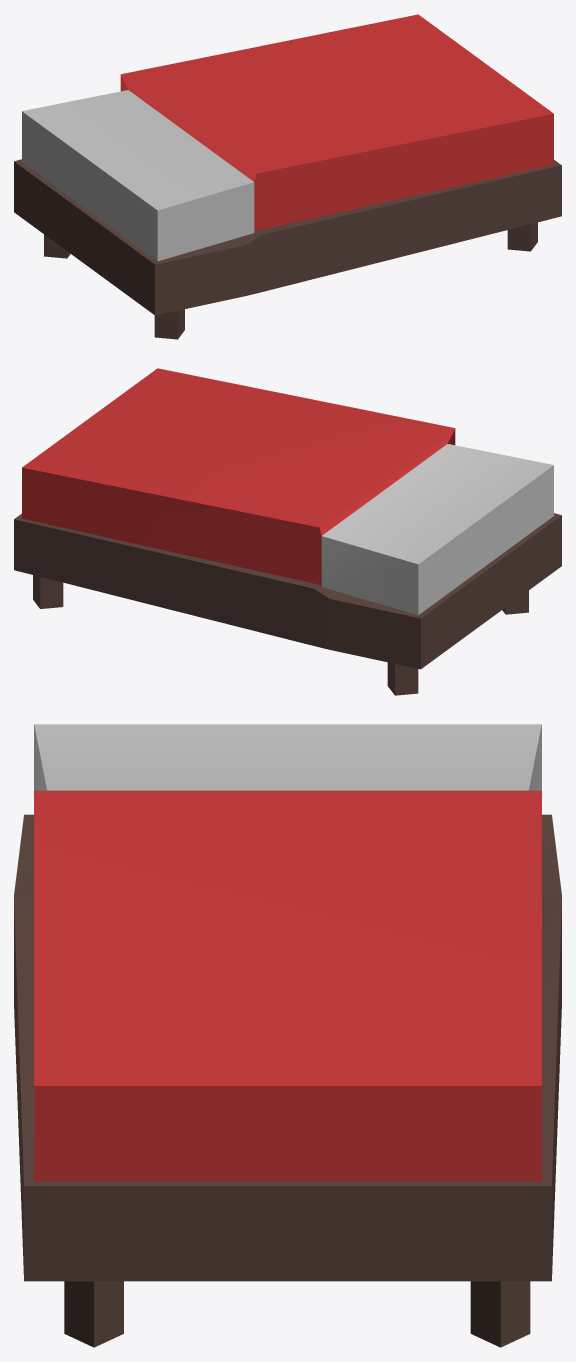
File: BedSplit.fbx
3 views of the same model, one above another, from view 1: azimuth 30°, elevation 25°; view 2: azimuth 150°, elevation 25°; view 3: azimuth 270°, elevation 25° (orthographic). The views are drawn at different scales.
Parts seen in each view (by area): view 1: Matress, Matress1, Base, Base1, Leg1, Leg; view 2: Matress, Matress1, Base, Base1, Leg3, Leg2; view 3: Matress1, Matress, Base1, Base, Leg2, Leg.
Part boxes in pixels (box(x1,y1,x2,y2)): Matress: box(22, 36, 354, 261); Matress1: box(309, 14, 553, 208); Base: box(14, 159, 462, 315); Base1: box(453, 160, 561, 241); Leg1: box(154, 309, 184, 339); Leg: box(507, 222, 537, 251); Matress: box(107, 415, 553, 615); Matress1: box(22, 368, 390, 537); Base: box(191, 513, 561, 669); Base1: box(14, 513, 199, 614); Leg3: box(387, 662, 418, 695); Leg2: box(33, 575, 63, 608); Matress1: box(34, 853, 541, 1181); Matress: box(34, 724, 541, 977); Base1: box(20, 1009, 557, 1281); Base: box(14, 814, 561, 1182); Leg2: box(470, 1281, 530, 1347); Leg: box(64, 1281, 123, 1347).
Bounding box in the file's own units: 4.18 × 1.5 × 2.61.
1 material, 1 textured.
